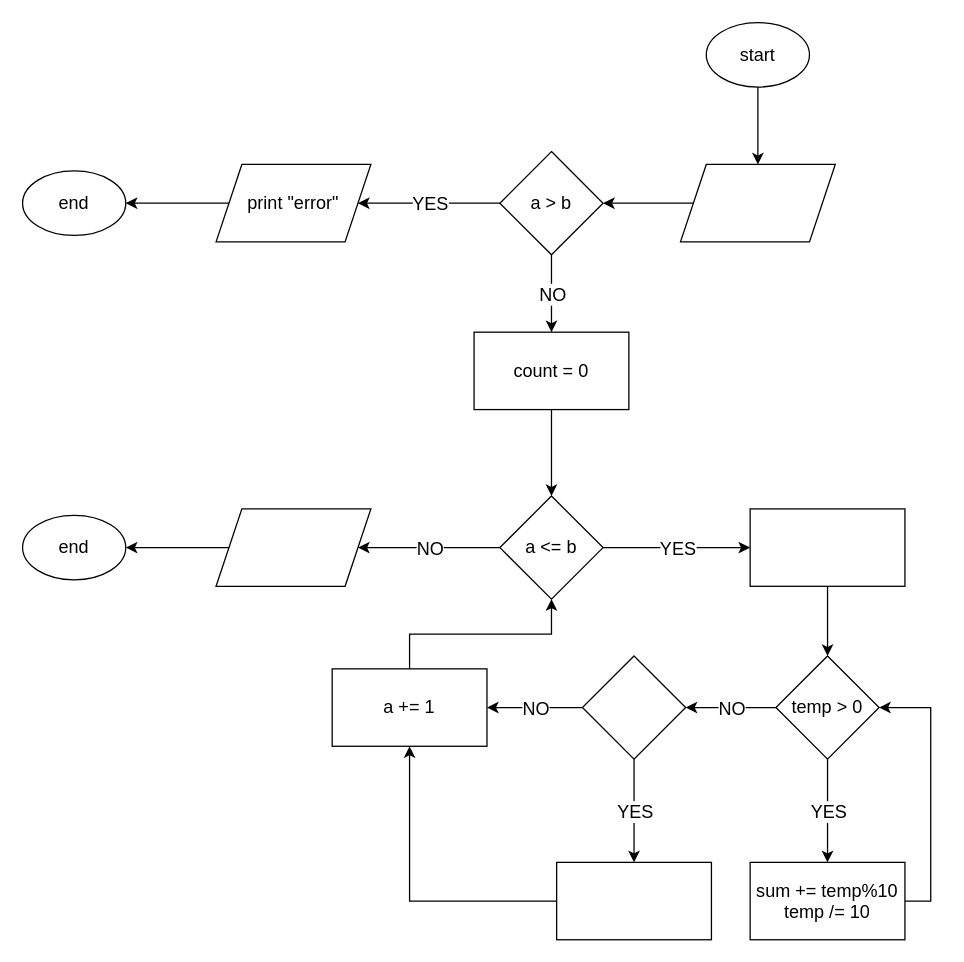
The diagram is 964 pixels wide and 962 high, and some of its shapes have lost their labels. The shapes that lost their labels are listed below. From the top down, each one's centre as x and y in pixels, then its label:
At point 757,202: "input a, b, n".
At point 293,547: "print count".
At point 827,547: "temp = a sum = 0".
At point 633,707: "sum == n".
At point 633,900: "count += 1".
